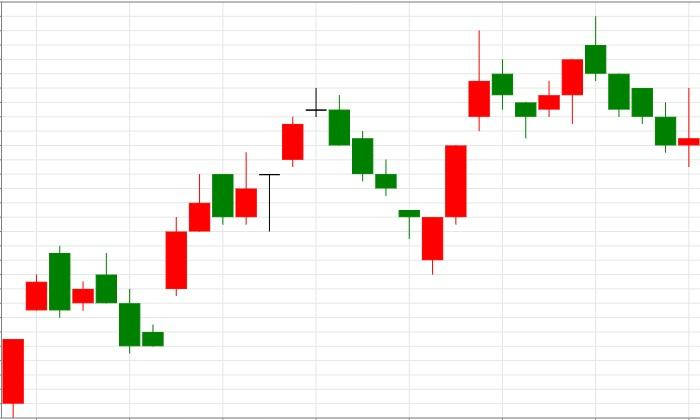evening_star_fall: (165, 88, 350, 296)
three_white_soldiers_rise: (307, 30, 491, 275)
